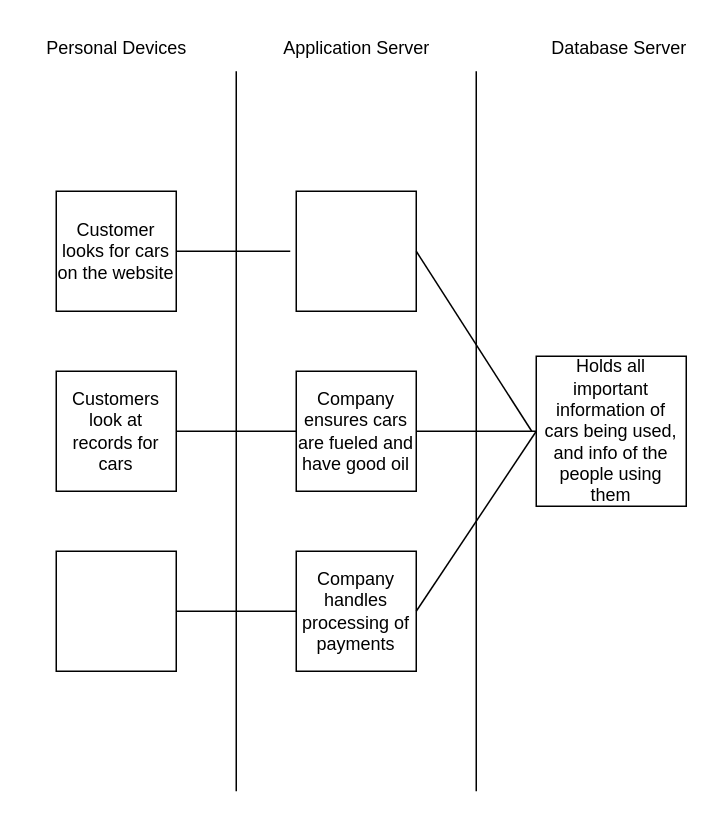
This 726x819 diagram has some shape labels left out. Each missing label, with the centre of its shape:
"Company make sure car runs good and has no issues" goes at [355,250].
"Customers look at cars mileage and other important information" goes at [115,610].
